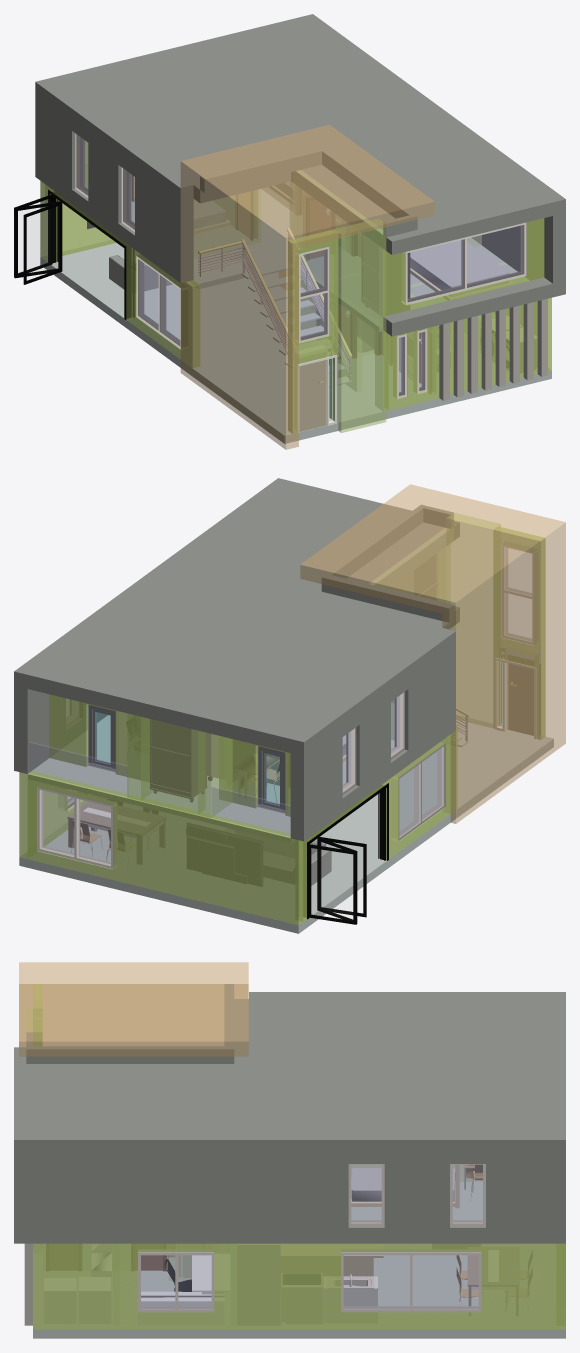
Rendered from house.glb.
3 views of the same model, one above another, from view 1: azimuth 30°, elevation 25°; view 2: azimuth 150°, elevation 25°; view 3: azimuth 270°, elevation 25° (orthographic). The views are drawn at different scales.
Visible parts, largest first — view 1: FamilyInstance Portes Interior Door <273166 1000mm x 2200mm<, Wall Murs <258157 Exterior Wall 1<; view 2: FamilyInstance Portes Interior Door <273166 1000mm x 2200mm<, Wall Murs <258157 Exterior Wall 1<; view 3: FamilyInstance Portes Interior Door <273166 1000mm x 2200mm<, Wall Murs <258157 Exterior Wall 1<.
Boxes of the visible parts, x1=… form: FamilyInstance Portes Interior Door <273166 1000mm x 2200mm<: x1=14, y1=14, x2=565, y2=443; Wall Murs <258157 Exterior Wall 1<: x1=40, y1=124, x2=551, y2=449; FamilyInstance Portes Interior Door <273166 1000mm x 2200mm<: x1=14, y1=478, x2=553, y2=933; Wall Murs <258157 Exterior Wall 1<: x1=19, y1=484, x2=565, y2=925; FamilyInstance Portes Interior Door <273166 1000mm x 2200mm<: x1=14, y1=984, x2=565, y2=1338; Wall Murs <258157 Exterior Wall 1<: x1=19, y1=962, x2=565, y2=1329.
Size of the model in its own units: 7241 by 4680 by 10128.
Materials: 2 (2 with a texture image).
